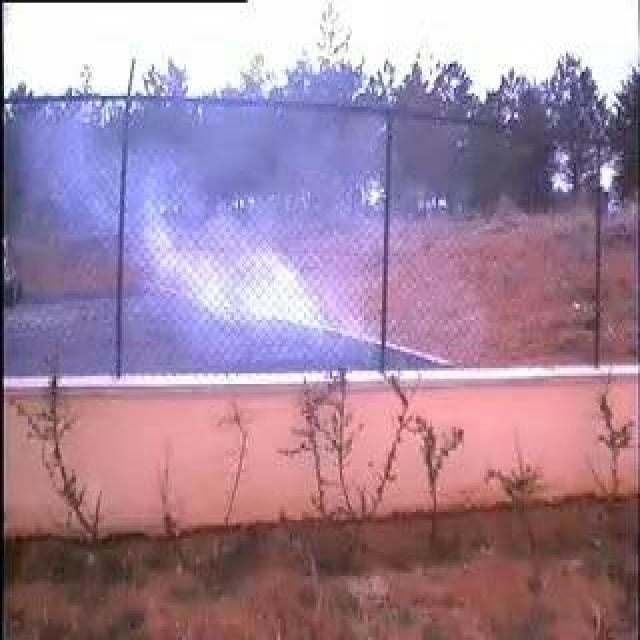Smoke: (123, 114, 389, 378)
